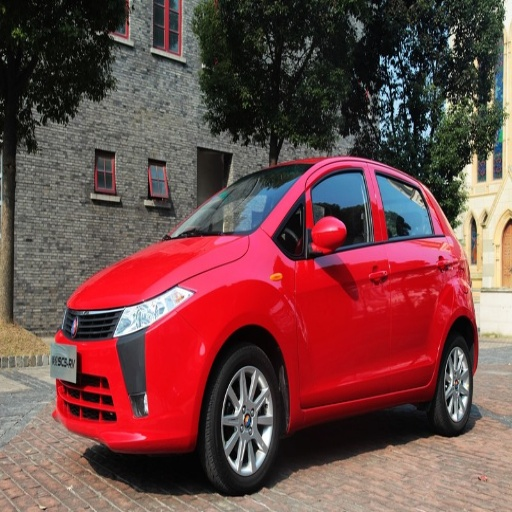front_bumper: (51, 307, 215, 452)
front_glass: (170, 168, 295, 239)
front_left_door: (294, 165, 393, 407)
